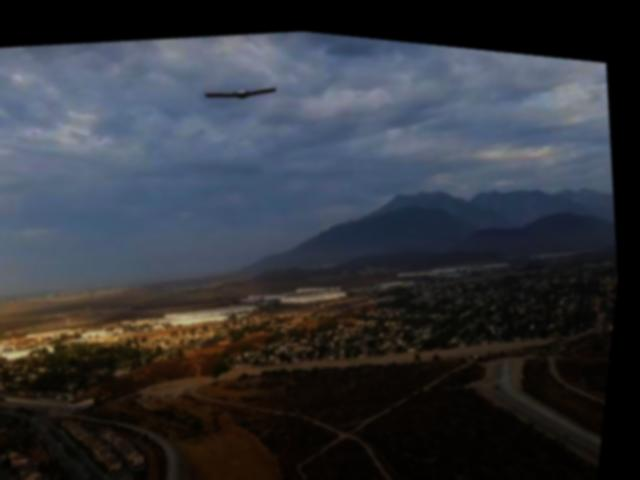iha: (203, 68, 282, 105)
